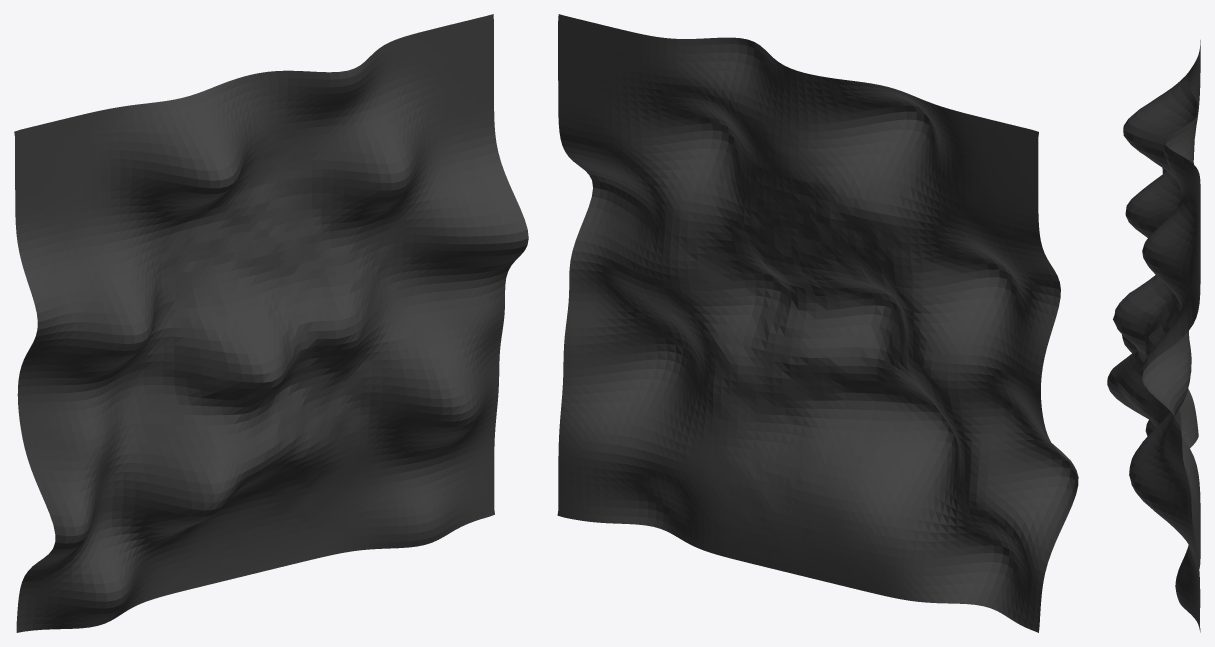
File: candidate_00.glb
3 renders of one model, left to right at view 1: azimuth 30°, elevation 25°; view 2: azimuth 150°, elevation 25°; view 3: azimuth 270°, elevation 25°, orthographic. The views are drawn at different scales.
Parts seen in each view (by area): view 1: world; view 2: world; view 3: world.
Part boxes in pixels (<box>): world: <box>14,14,528,632</box>; world: <box>557,14,1078,632</box>; world: <box>1107,40,1200,632</box>.
Size of the model in its own units: 4000 by 3989 by 797.
Materials: 1 (1 with a texture image).
